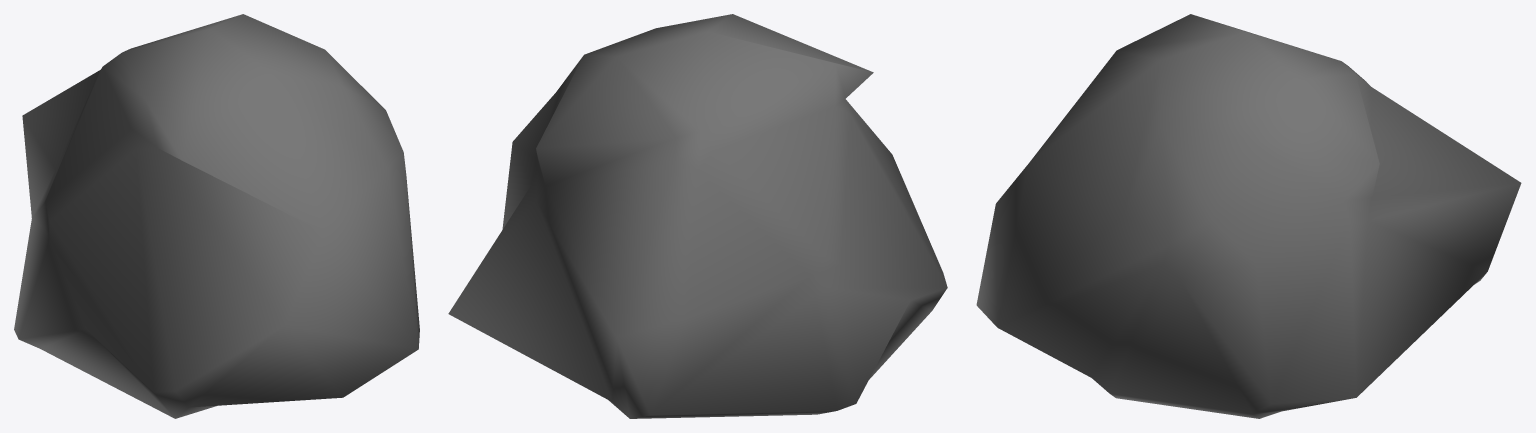
File: deformedRock-04_col.fbx
3 renders of one model, left to right at view 1: azimuth 30°, elevation 25°; view 2: azimuth 150°, elevation 25°; view 3: azimuth 270°, elevation 25°, orthographic. The views are drawn at different scales.
Visible parts, largest first — view 1: deformedRock-04.col; view 2: deformedRock-04.col; view 3: deformedRock-04.col.
Part boxes in pixels (x1=…): deformedRock-04.col: x1=14, y1=14, x2=419, y2=418; deformedRock-04.col: x1=448, y1=14, x2=947, y2=418; deformedRock-04.col: x1=976, y1=14, x2=1521, y2=418.
Size of the model in its own units: 0.2598 by 0.2219 by 0.3436.
1 material, 1 textured.
